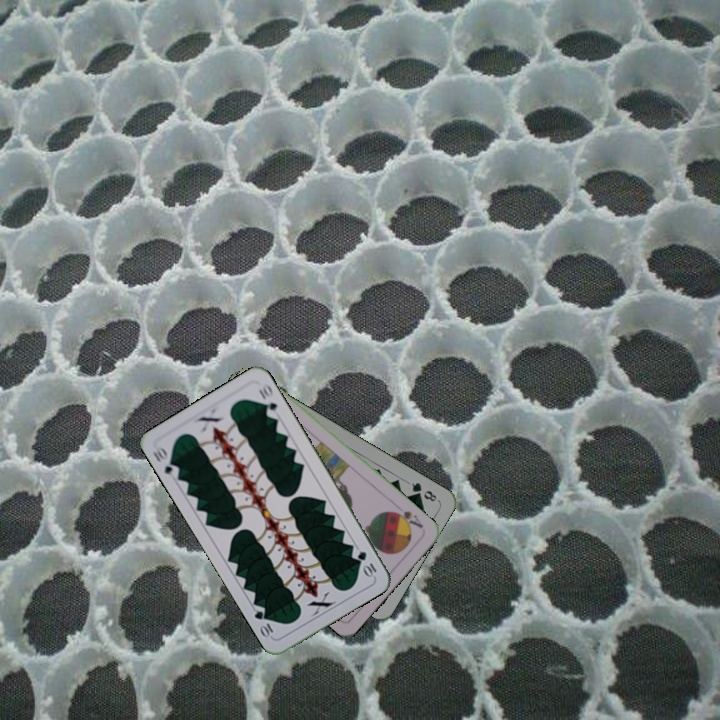G10: (149, 441, 182, 477), (353, 547, 379, 580)
G8: (407, 478, 439, 504)
SA: (388, 507, 426, 531)
